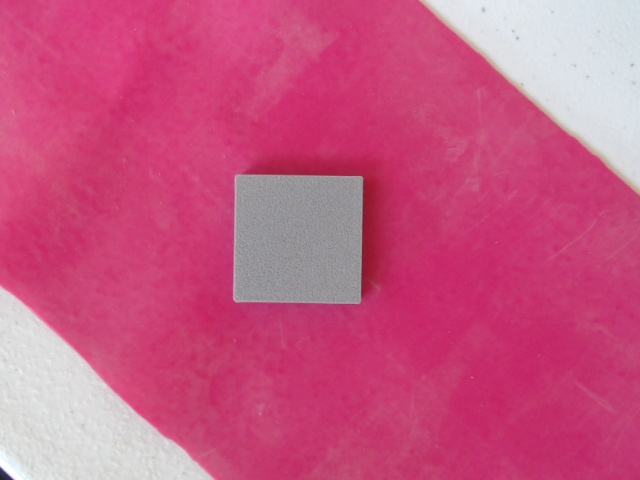Defective: (225, 170, 370, 309)
